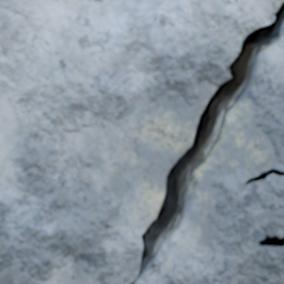broken_brick: (0, 0, 283, 283)
crack: (134, 2, 283, 281), (244, 169, 283, 187), (257, 235, 283, 247)
